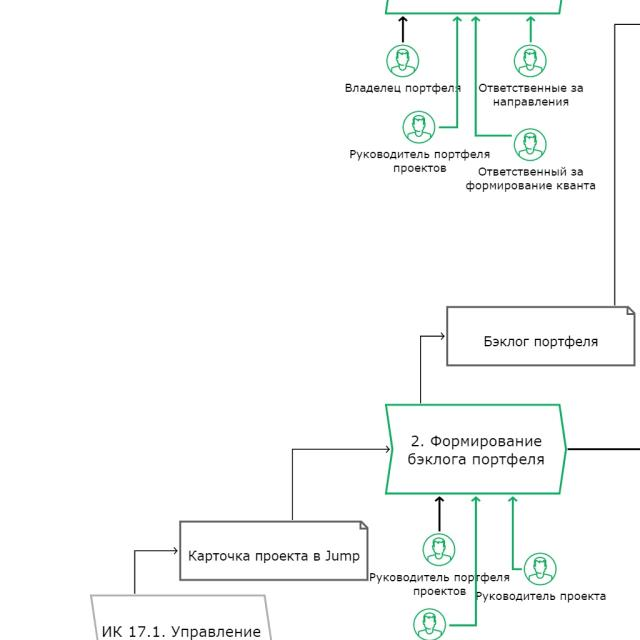arrow: (291, 445, 390, 521), (471, 16, 513, 137), (449, 497, 481, 627), (438, 16, 462, 129), (132, 547, 178, 594), (417, 332, 445, 404), (509, 496, 523, 571), (435, 496, 444, 532), (526, 15, 536, 43), (398, 16, 408, 43)
circle: (524, 553, 556, 585), (403, 111, 435, 143), (514, 45, 546, 77), (387, 45, 419, 77), (514, 129, 546, 161), (423, 534, 455, 566), (414, 609, 446, 639)
rectangle: (384, 405, 566, 494), (447, 306, 635, 366), (180, 523, 368, 580)
text_region: (348, 147, 493, 177), (463, 165, 598, 193), (370, 572, 510, 596), (478, 82, 584, 109), (476, 591, 607, 604), (345, 82, 462, 94)
